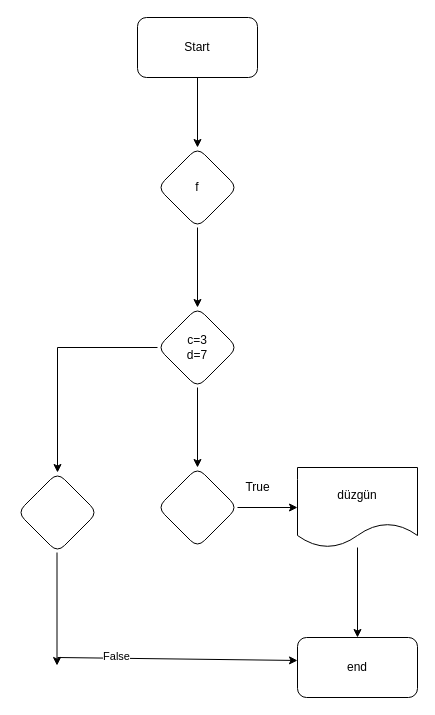
This 435x715 diagram has some shape labels left out. The centre of each missing label's shape, as x and y in pixels:
"f%c!=0 f%d!=0" belongs at point 57,512.
"f%c==0 f%d==0" belongs at point 197,507.
